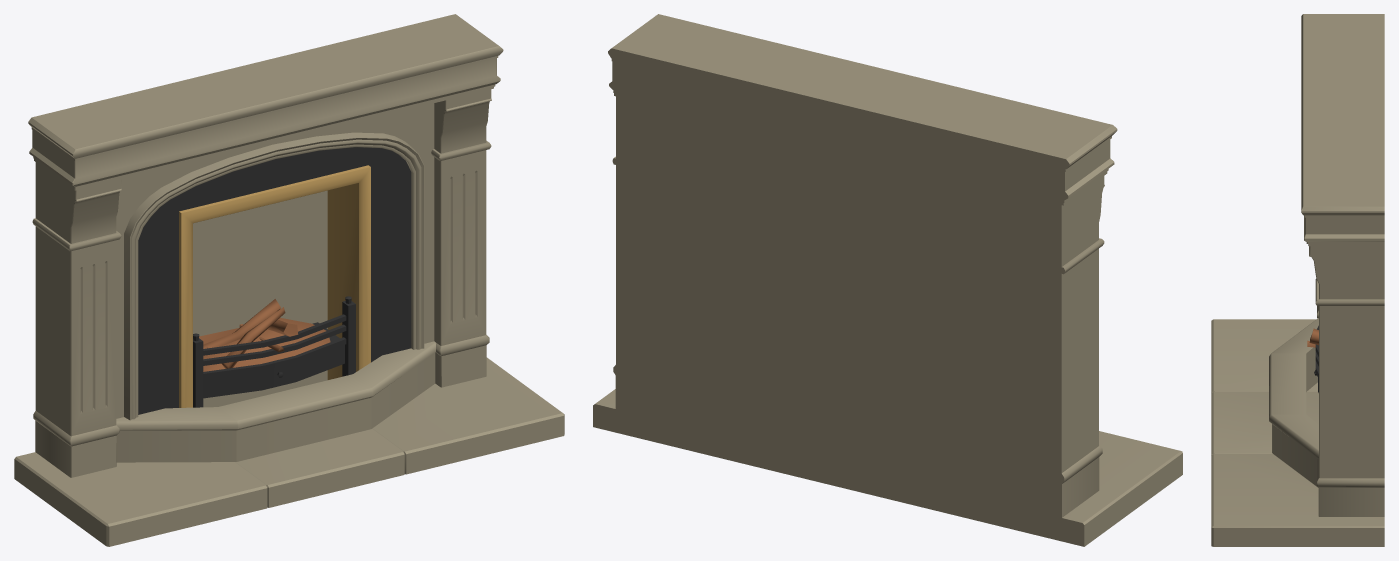
The model's file is WallFurnace.FBX.
The picture shows the model from 3 angles, left to right: view 1: azimuth 30°, elevation 25°; view 2: azimuth 150°, elevation 25°; view 3: azimuth 270°, elevation 25°; orthographic projection. The views are drawn at different scales.
Parts seen in each view (by area): view 1: WallFurnace; view 2: WallFurnace; view 3: WallFurnace.
Part boxes in pixels (x1,y1,x2,y2): WallFurnace: [14, 14, 564, 546]; WallFurnace: [593, 14, 1182, 546]; WallFurnace: [1211, 14, 1384, 546].
Size of the model in its own units: 215 by 75.62 by 160.
